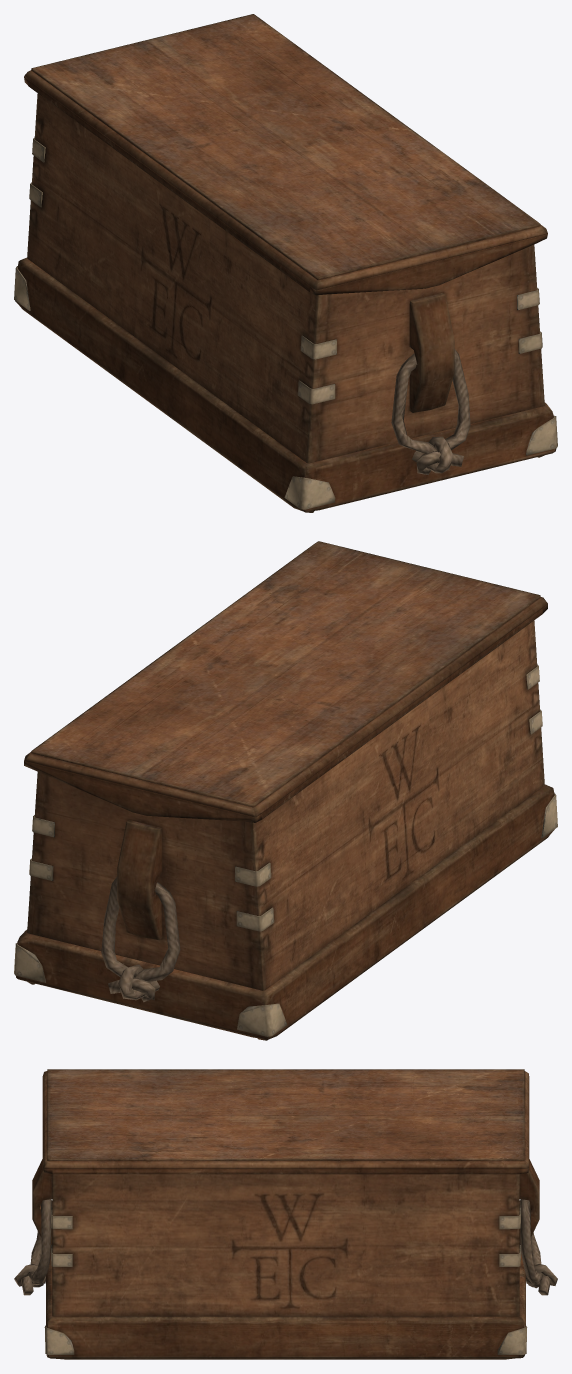
Rendered from wooden_crate_02_lod2.glb.
3 views of the same model, one above another, from view 1: azimuth 30°, elevation 25°; view 2: azimuth 150°, elevation 25°; view 3: azimuth 270°, elevation 25° (orthographic). The views are drawn at different scales.
Parts seen in each view (by area): view 1: wooden_crate_02_crate, wooden_crate_02_lid; view 2: wooden_crate_02_crate, wooden_crate_02_lid; view 3: wooden_crate_02_crate, wooden_crate_02_lid.
Boxes of the visible parts, x1=… form: wooden_crate_02_crate: x1=14, y1=93, x2=557, y2=512; wooden_crate_02_lid: x1=24, y1=14, x2=547, y2=295; wooden_crate_02_crate: x1=14, y1=620, x2=557, y2=1040; wooden_crate_02_lid: x1=24, y1=541, x2=547, y2=822; wooden_crate_02_crate: x1=14, y1=1159, x2=557, y2=1359; wooden_crate_02_lid: x1=42, y1=1069, x2=529, y2=1174.
Bounding box in the file's own units: 0.5291 × 0.464 × 1.16.
Materials: 1 (1 with a texture image).
